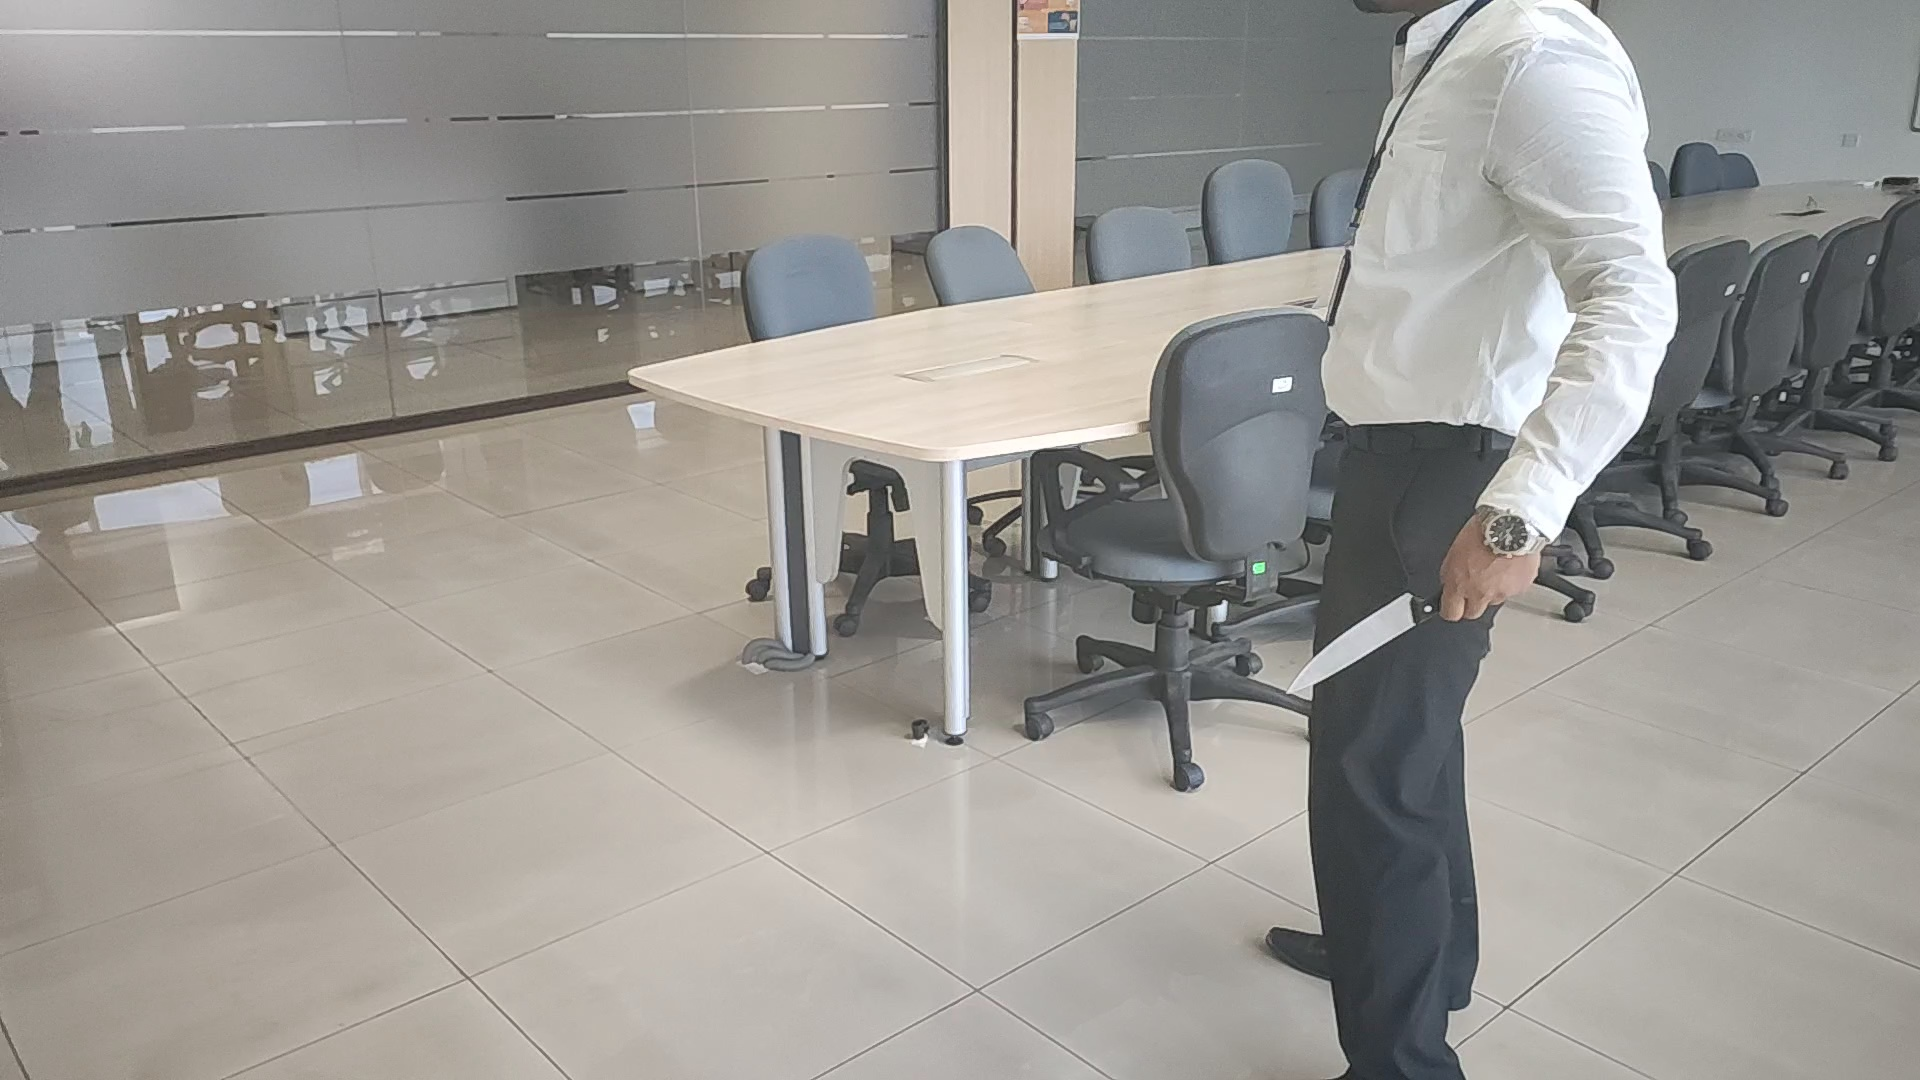knife: (1286, 585, 1437, 698)
